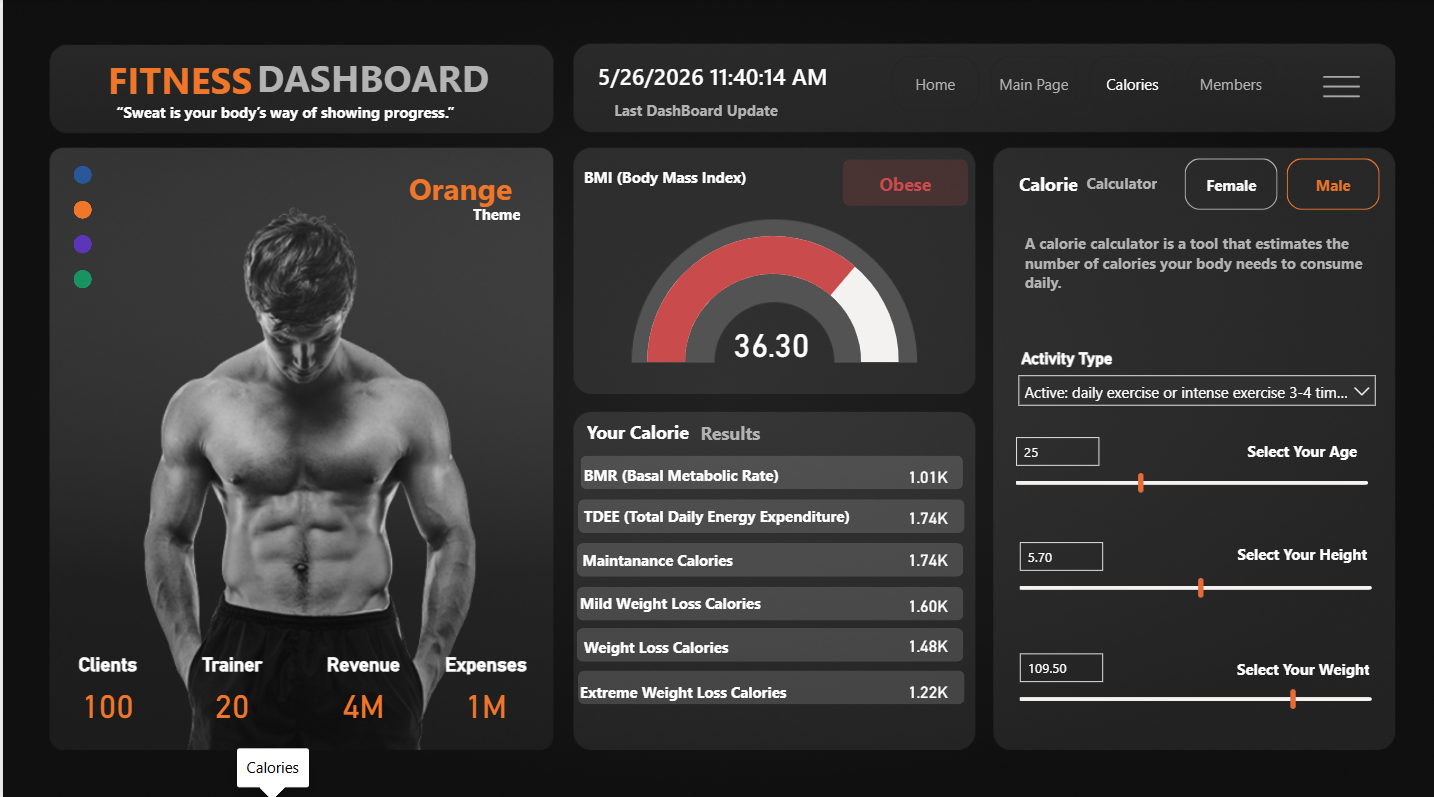

The page's visual inventory and layout, read from the dashboard file:
{"tool":"powerbi","page":{"name":"Calories ","canvas":[1280,720],"ordinal":2},"visuals":[{"type":"slicer","fields":{"Values":["Age_Slider.Age_Slider"]},"box":[892.2,381.9,340.6,93.8],"z":0},{"type":"slicer","fields":{"Values":["Height_Slider.Height_Slider"]},"box":[895.5,475.7,340.6,84.9],"z":1000},{"type":"slicer","fields":{"Values":["Weight_Slider.Weight_Slider"]},"box":[895.5,575.1,340.6,82.6],"z":2000},{"type":"slicer","fields":{"Values":["Slider_Activity.Category"]},"box":[896.7,308.2,339.5,71.5],"z":3000},{"type":"advancedSlicerVisual","fields":{"Values":["Slider_Gender.Category"]},"box":[1051.2,138.4,184.9,57],"z":4000},{"type":"shape","box":[79.1,46.5,158.1,44.2],"z":5000},{"type":"shape","box":[214,44.2,232.6,44.2],"z":6000},{"type":"shape","box":[90.6,87.8,323.8,27.4],"z":7000},{"type":"shape","box":[894.2,144.2,79.1,41.9],"z":8000},{"type":"shape","box":[955.8,145.3,87.2,40.7],"z":9000},{"type":"shape","box":[907,195.3,319.8,81.4],"z":10000},{"type":"shape","box":[1095.4,383,130.6,42.4],"z":11000},{"type":"shape","box":[1095.4,475.7,130.6,41.3],"z":12000},{"type":"shape","box":[1096.5,577.9,130.2,41.9],"z":13000},{"type":"gauge","fields":{"Y":["_Measures.BMI"]},"box":[570.9,155.8,234.9,225.6],"z":14000},{"type":"card","fields":{"Values":["_Measures.BMI"]},"box":[623.3,274.4,126.7,68.6],"z":15000},{"type":"shape","box":[516.3,138.4,212.8,41.9],"z":16000},{"type":"shape","box":[750,144.2,111.6,41.9],"z":17000},{"type":"shape","box":[517.4,408.1,198.8,33.7],"z":18000},{"type":"shape","box":[514,366.3,107,41.9],"z":19000},{"type":"shape","box":[611.6,367.4,75.6,40.7],"z":20000},{"type":"shape","box":[516.3,408.1,341.9,30.2],"z":21000},{"type":"shape","box":[514,447.7,345.3,30.2],"z":22000},{"type":"shape","box":[512.8,562.8,345.3,30.2],"z":23000},{"type":"shape","box":[512.8,487.2,345.3,30.2],"z":24000},{"type":"shape","box":[512.8,525.6,345.3,30.2],"z":25000},{"type":"card","fields":{"Values":["_Measures.BMR"]},"box":[795.4,415.1,62.8,26.7],"z":26000},{"type":"shape","box":[514,601.2,345.3,30.2],"z":27000},{"type":"shape","box":[517.4,445.4,243,33.7],"z":28000},{"type":"shape","box":[516.3,484.9,198.8,33.7],"z":29000},{"type":"shape","box":[514,523.3,198.8,33.7],"z":30000},{"type":"shape","box":[517.4,562.8,198.8,33.7],"z":31000},{"type":"shape","box":[514,603.5,198.8,33.7],"z":32000},{"type":"card","fields":{"Values":["_Measures.Extreme Weight Loss Calories"]},"box":[795.4,607,62.8,26.7],"z":33000},{"type":"card","fields":{"Values":["_Measures.BMI"]},"box":[809.3,438.4,62.8,12.8],"z":34000},{"type":"card","fields":{"Values":["_Measures.Weight Loss Calories"]},"box":[795.4,566.3,62.8,26.7],"z":35000},{"type":"card","fields":{"Values":["_Measures.Mild Weight Loss Calories"]},"box":[795.4,530.2,62.8,26.7],"z":36000},{"type":"card","fields":{"Values":["_Measures.TDEE"]},"box":[795.4,452.3,62.8,26.7],"z":37000},{"type":"card","fields":{"Values":["_Measures.Maintain Calories"]},"box":[795.4,489.5,62.8,26.7],"z":38000},{"type":"image","box":[1161.6,59.3,70.9,41.9],"z":39000},{"type":"shape","box":[523.3,88.4,190.7,23.3],"z":40000},{"type":"pageNavigator","box":[794.2,51.2,345.3,50],"z":41000},{"type":"advancedSlicerVisual","fields":{"Values":["ColorCodes.Icon"]},"box":[52.2,142,37.6,129.8],"z":42000},{"type":"card","title":"Clients","fields":{"Values":["_Measures.Users_Count"]},"box":[52.1,584.6,82.3,72.7],"z":43000},{"type":"card","title":"Trainer","fields":{"Values":["Count(Users.Trainer Name)"]},"box":[157.8,584.6,94.7,72.7],"z":44000},{"type":"card","title":"Revenue","fields":{"Values":["_Measures.Revenue"]},"box":[274.4,584.6,94.7,72.7],"z":45000},{"type":"card","title":"Expenses","fields":{"Values":["_Measures.Expenses"]},"box":[384.2,584.6,94.7,72.7],"z":46000},{"type":"shape","box":[338.6,145.6,140.8,48.5],"z":47000},{"type":"shape","box":[384.7,178.4,111.6,29.1],"z":48000},{"type":"cardVisual","fields":{"Data":["_Measures.Current Time"]},"box":[502.3,0,291.9,137.2],"z":49000}]}

Visuals, with their boxes in screenshot pixels (x1, y1, x2, y2), scaled from the page's 1280x720 canvas onto the 1434x797 screenshot:
slicer - Age_Slider.Age_Slider: 1000,423,1381,527
slicer - Height_Slider.Height_Slider: 1003,527,1385,621
slicer - Weight_Slider.Weight_Slider: 1003,637,1385,728
slicer - Slider_Activity.Category: 1005,341,1385,420
advancedSlicerVisual - Slider_Gender.Category: 1178,153,1385,216
shape: 89,51,266,100
shape: 240,49,500,98
shape: 102,97,464,128
shape: 1002,160,1090,206
shape: 1071,161,1168,206
shape: 1016,216,1374,306
shape: 1227,424,1374,471
shape: 1227,527,1374,572
shape: 1228,640,1374,686
gauge - _Measures.BMI: 640,172,903,422
card - _Measures.BMI: 698,304,840,380
shape: 578,153,817,200
shape: 840,160,965,206
shape: 580,452,802,489
shape: 576,405,696,452
shape: 685,407,770,452
shape: 578,452,961,485
shape: 576,496,963,529
shape: 574,623,961,656
shape: 574,539,961,573
shape: 574,582,961,615
card - _Measures.BMR: 891,459,961,489
shape: 576,665,963,699
shape: 580,493,852,530
shape: 578,537,801,574
shape: 576,579,799,617
shape: 580,623,802,660
shape: 576,668,799,705
card - _Measures.Extreme Weight Loss Calories: 891,672,961,701
card - _Measures.BMI: 907,485,977,499
card - _Measures.Weight Loss Calories: 891,627,961,656
card - _Measures.Mild Weight Loss Calories: 891,587,961,616
card - _Measures.TDEE: 891,501,961,530
card - _Measures.Maintain Calories: 891,542,961,571
image: 1301,66,1381,112
shape: 586,98,800,124
pageNavigator: 890,57,1277,112
advancedSlicerVisual - ColorCodes.Icon: 58,157,101,301
"Clients" card: 58,647,151,728
"Trainer" card: 177,647,283,728
"Revenue" card: 307,647,414,728
"Expenses" card: 430,647,537,728
shape: 379,161,537,215
shape: 431,197,556,230
cardVisual - _Measures.Current Time: 563,0,890,152
